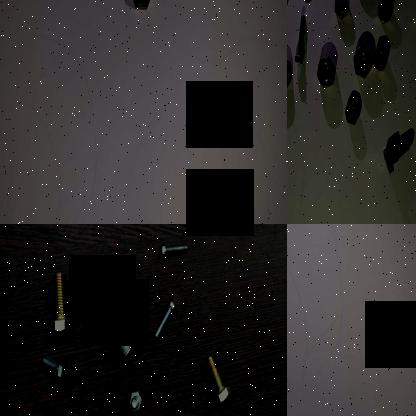Bolts: (96, 293, 138, 365), (46, 268, 77, 336), (202, 353, 232, 410), (380, 131, 414, 173), (36, 351, 72, 385), (292, 7, 312, 64), (152, 298, 176, 342), (157, 240, 189, 264), (126, 387, 148, 413)
NUTS: (312, 54, 336, 90), (350, 44, 370, 78), (128, 0, 155, 21), (340, 98, 360, 126), (369, 44, 385, 76), (329, 0, 349, 23), (376, 0, 392, 24), (287, 56, 292, 94)
